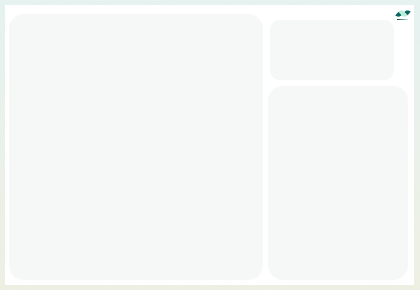

Layout of this report page (visuals, bound fields, positions):
{"tool":"powerbi","page":{"name":"Month ToolTip","canvas":[440,290],"ordinal":2},"visuals":[{"type":"card","title":"Total Cost","fields":{"Values":["Sum(df.COST)"]},"box":[290.7,21.3,111.6,57.3],"z":0},{"type":"donutChart","title":"By Location","fields":{"Y":["Sum(df.COST)"],"Category":["df.Cost Range"]},"box":[10.2,16.9,265.8,262.2],"z":1000},{"type":"pivotTable","fields":{"Rows":["df.ITEM"],"Values":["Sum(df.COST)"]},"box":[281.3,86.7,158.7,192.4],"z":2000}]}

Visuals, with their boxes on the page's 440x290 design canvas (x1, y1, x2, y2). These are canvas units, not pixel positions in the 420x290 screenshot, which may show the page scaled, cropped or inside an application window:
"Total Cost" card: box=[291, 21, 402, 79]
"By Location" donutChart: box=[10, 17, 276, 279]
pivotTable - df.ITEM x Sum(df.COST): box=[281, 87, 440, 279]
